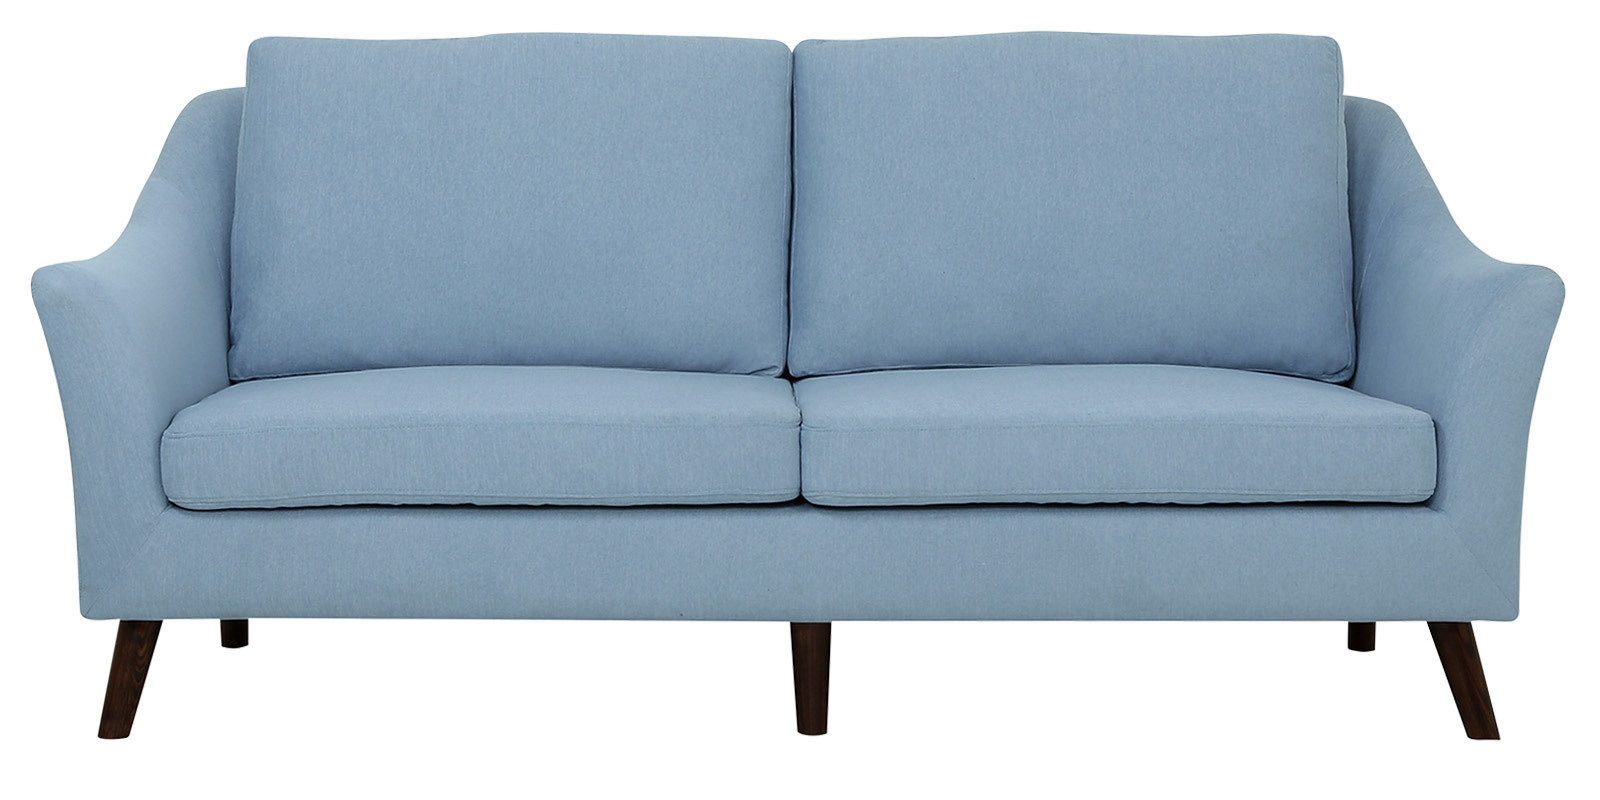Juan Three Seater Sofs in Ice Blue Colour by CasaCraft: (28, 28, 1566, 745)
